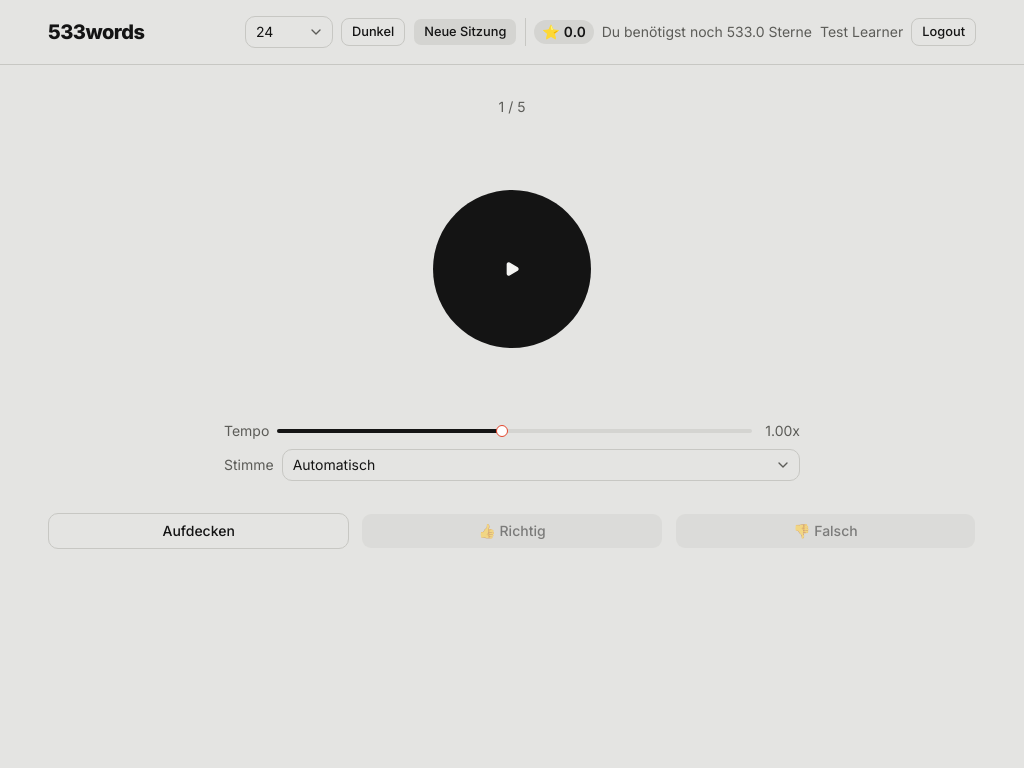
Scenario: Home practice screen › discards the in-progress session without confirmation when New Session is pressed
The width and height of the screenshot is (1024, 768).
Check: the button named "abspielen" is shown, box [432, 189, 592, 349]
Click the button "Aufdecken" at (199, 531), box [48, 513, 349, 549]
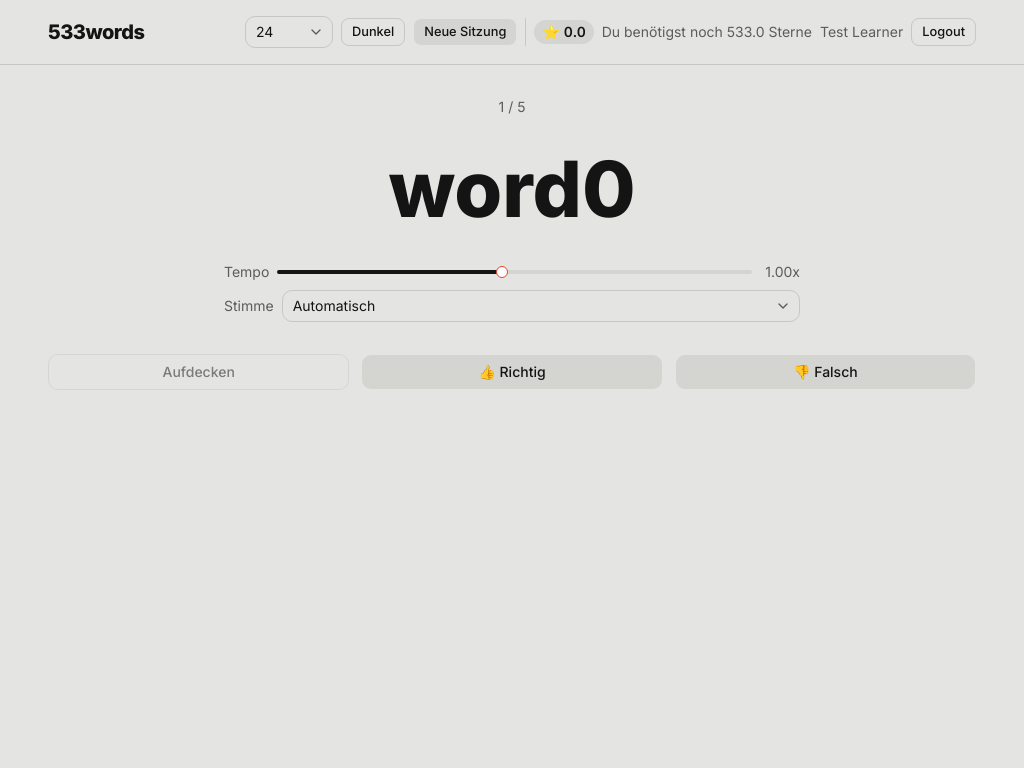
Check: the text "word0" is shown, box [388, 149, 636, 230]
Click the button "Neue Sitzung" at (465, 32), box [413, 18, 517, 46]
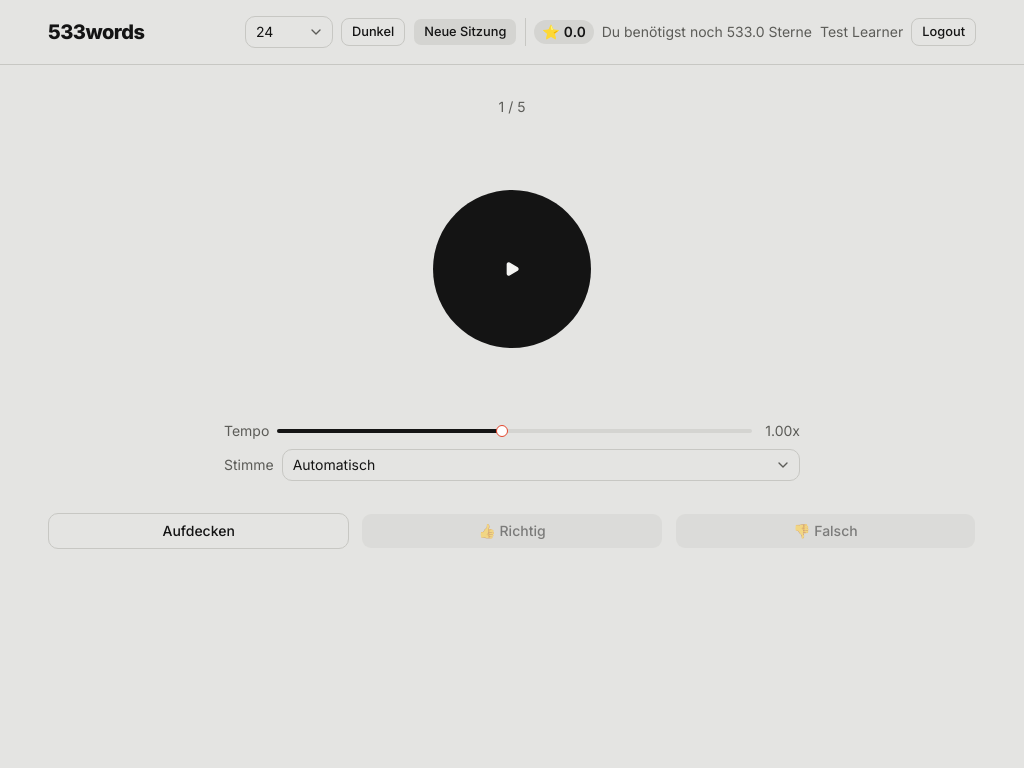
Check: the button named "abspielen" is shown, box [432, 189, 592, 349]
